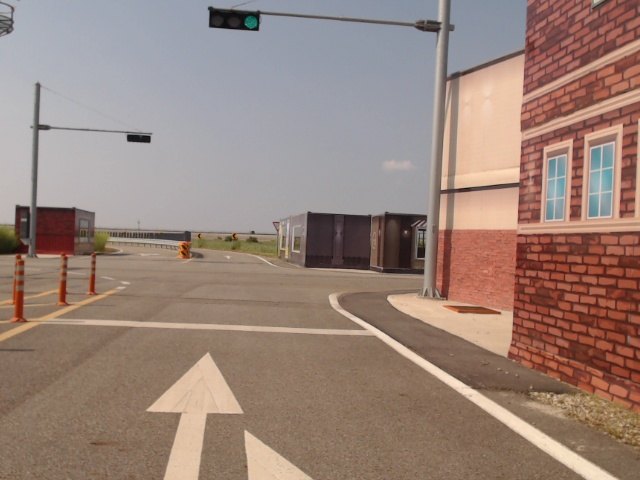green_3: (209, 7, 259, 31)
